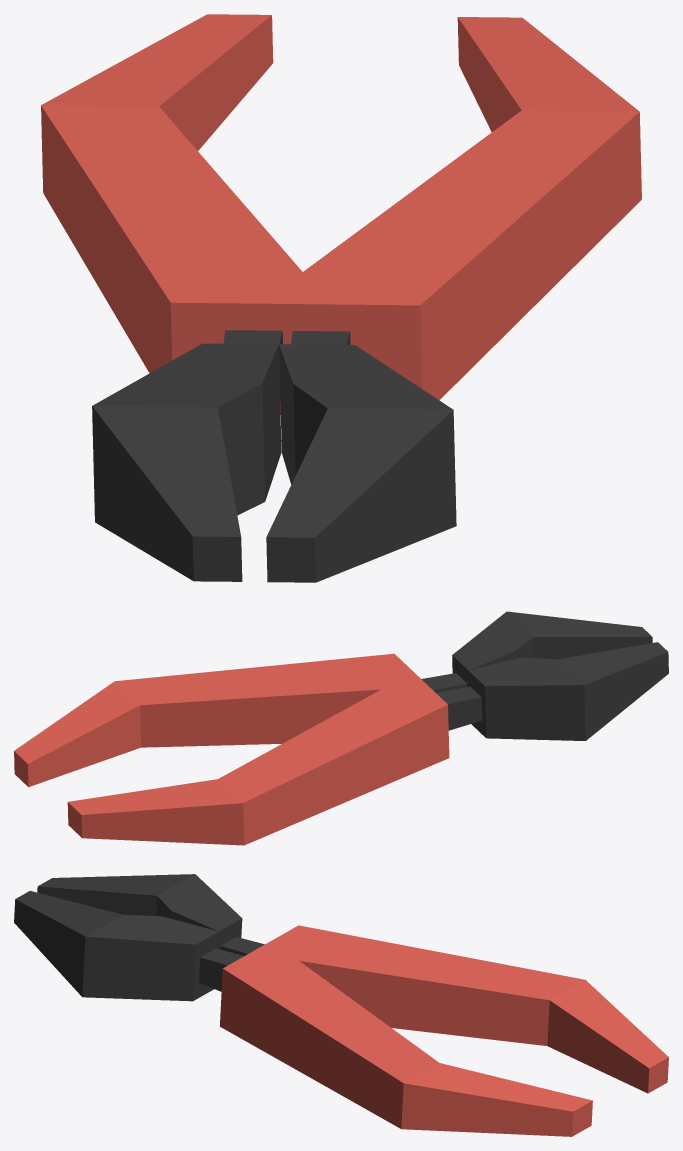
The model's file is pliers.fbx.
The picture shows the model from 3 angles, top to bottom: view 1: azimuth 30°, elevation 25°; view 2: azimuth 150°, elevation 25°; view 3: azimuth 270°, elevation 25°; orthographic projection. The views are drawn at different scales.
Parts seen in each view (by area): view 1: Pliers.001; view 2: Pliers.001; view 3: Pliers.001.
Part boxes in pixels (x1,y1,x2,y2): Pliers.001: [41, 14, 641, 582]; Pliers.001: [14, 611, 668, 845]; Pliers.001: [14, 874, 668, 1136].
Bounding box in the file's own units: 35.61 × 5.8 × 46.33.
